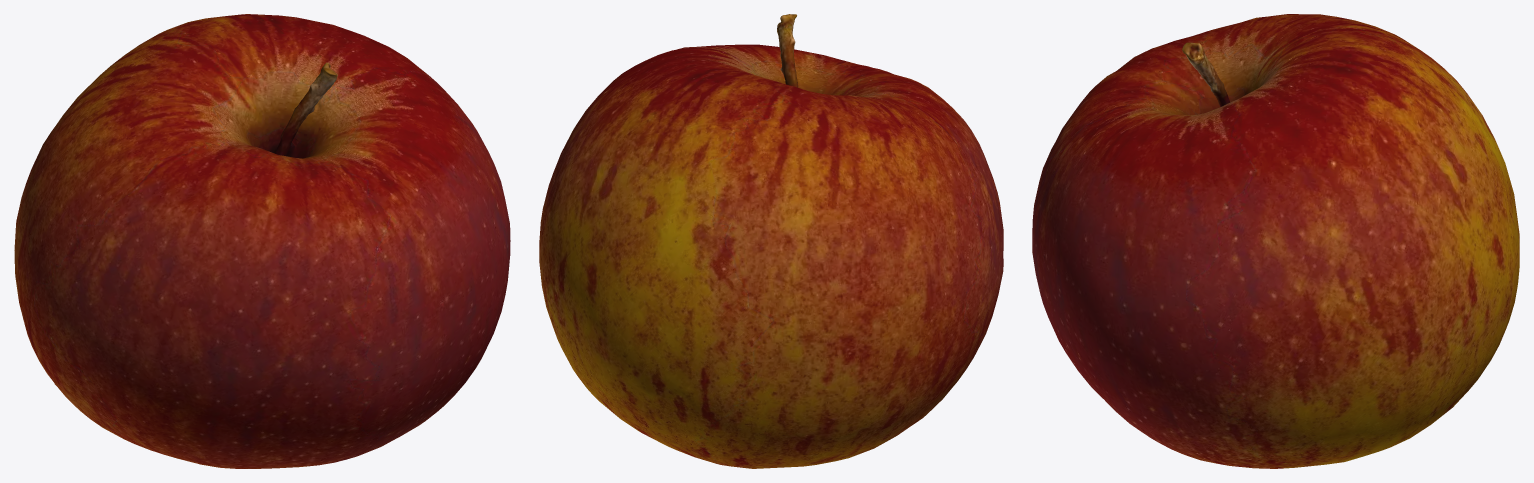
Rendered from food_apple_01.glb.
3 renders of one model, left to right at view 1: azimuth 30°, elevation 25°; view 2: azimuth 150°, elevation 25°; view 3: azimuth 270°, elevation 25°, orthographic. The views are drawn at different scales.
Parts seen in each view (by area): view 1: food_apple_01; view 2: food_apple_01; view 3: food_apple_01.
Part boxes in pixels (<box>): food_apple_01: <box>14,14,510,468</box>; food_apple_01: <box>539,14,1003,468</box>; food_apple_01: <box>1032,14,1519,468</box>.
Bounding box in the file's own units: 0.0976 × 0.0854 × 0.0959.
Materials: 1 (1 with a texture image).
